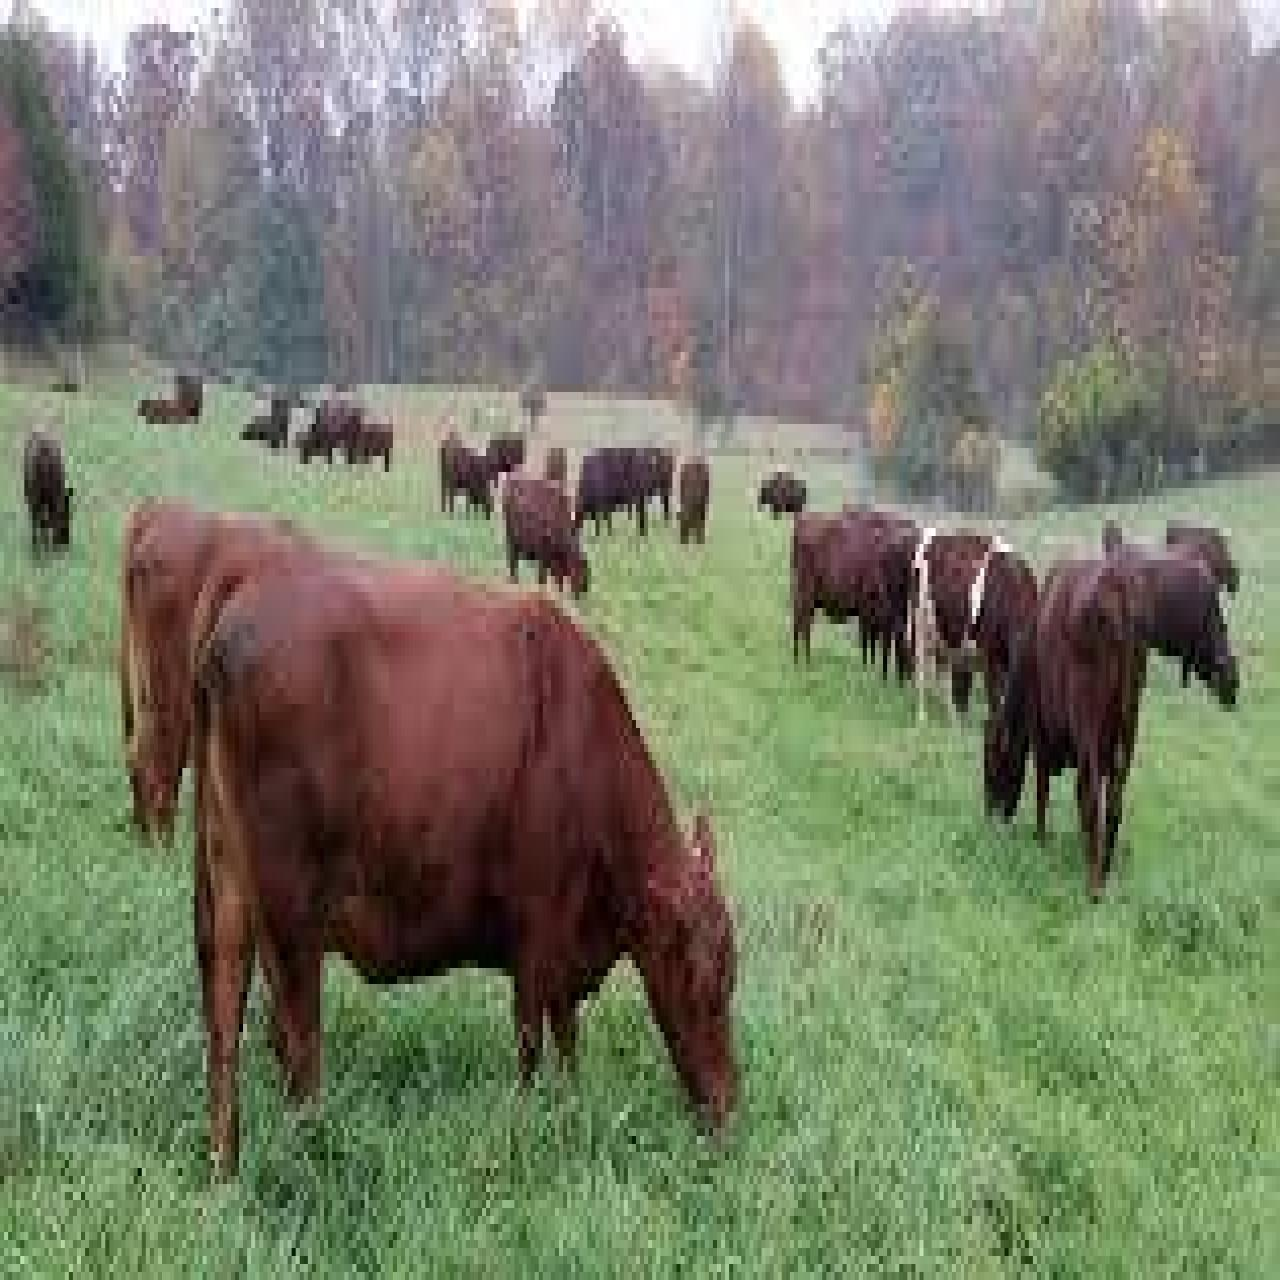cow: (200, 568, 748, 1128), (123, 501, 314, 844), (987, 556, 1141, 876), (777, 496, 919, 663), (1105, 560, 1244, 704), (924, 527, 1001, 688), (495, 468, 595, 580), (567, 433, 660, 536), (28, 428, 81, 556), (1169, 527, 1241, 608), (444, 433, 501, 527), (674, 464, 723, 552)
